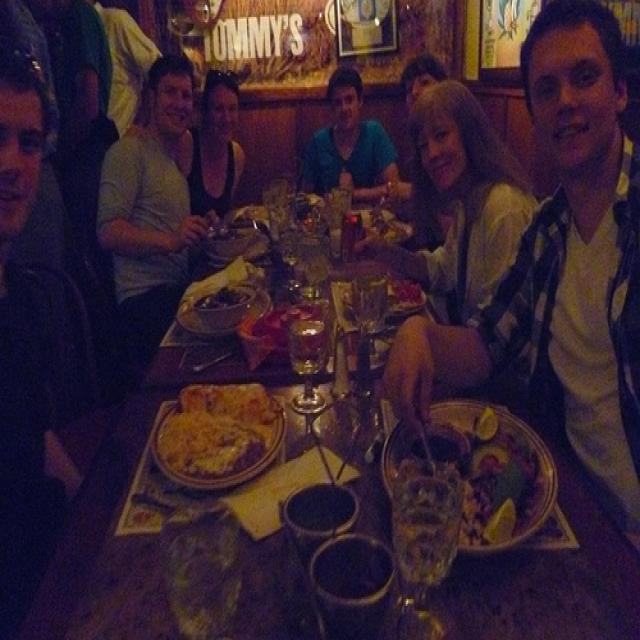Cup: (394, 456, 474, 640), (303, 533, 408, 640), (265, 460, 350, 568), (358, 239, 407, 369), (285, 296, 332, 418), (259, 168, 300, 255)
People: (521, 3, 640, 562), (408, 79, 531, 366), (0, 3, 64, 472), (115, 40, 200, 351), (321, 52, 387, 223), (81, 0, 126, 194), (199, 56, 248, 221), (397, 37, 454, 130)
Table: (184, 172, 558, 640)
